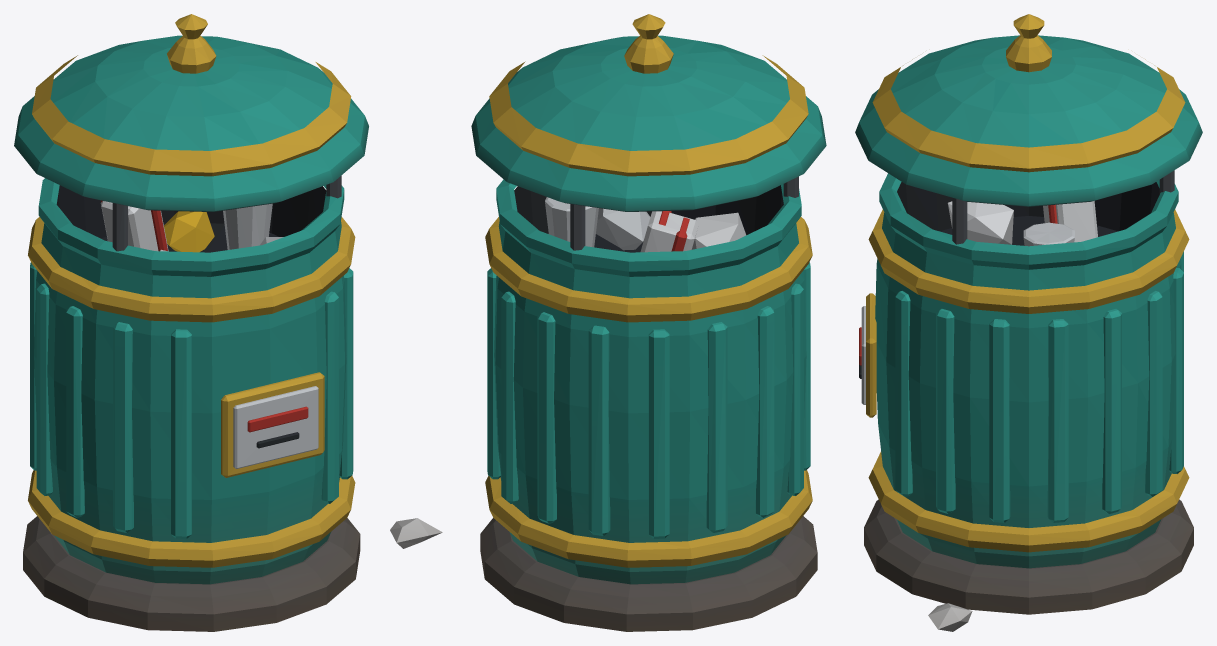
Rendered from litter-bin.glb.
3 renders of one model, left to right at view 1: azimuth 30°, elevation 25°; view 2: azimuth 150°, elevation 25°; view 3: azimuth 270°, elevation 25°, orthographic. The views are drawn at different scales.
Visible parts, largest first — view 1: litter_bin; view 2: litter_bin; view 3: litter_bin.
Boxes of the visible parts, <box> form: litter_bin: <box>14,14,442,631</box>; litter_bin: <box>471,14,826,631</box>; litter_bin: <box>855,14,1202,631</box>.
Bounding box in the file's own units: 0.5982 × 0.869 × 0.516.
